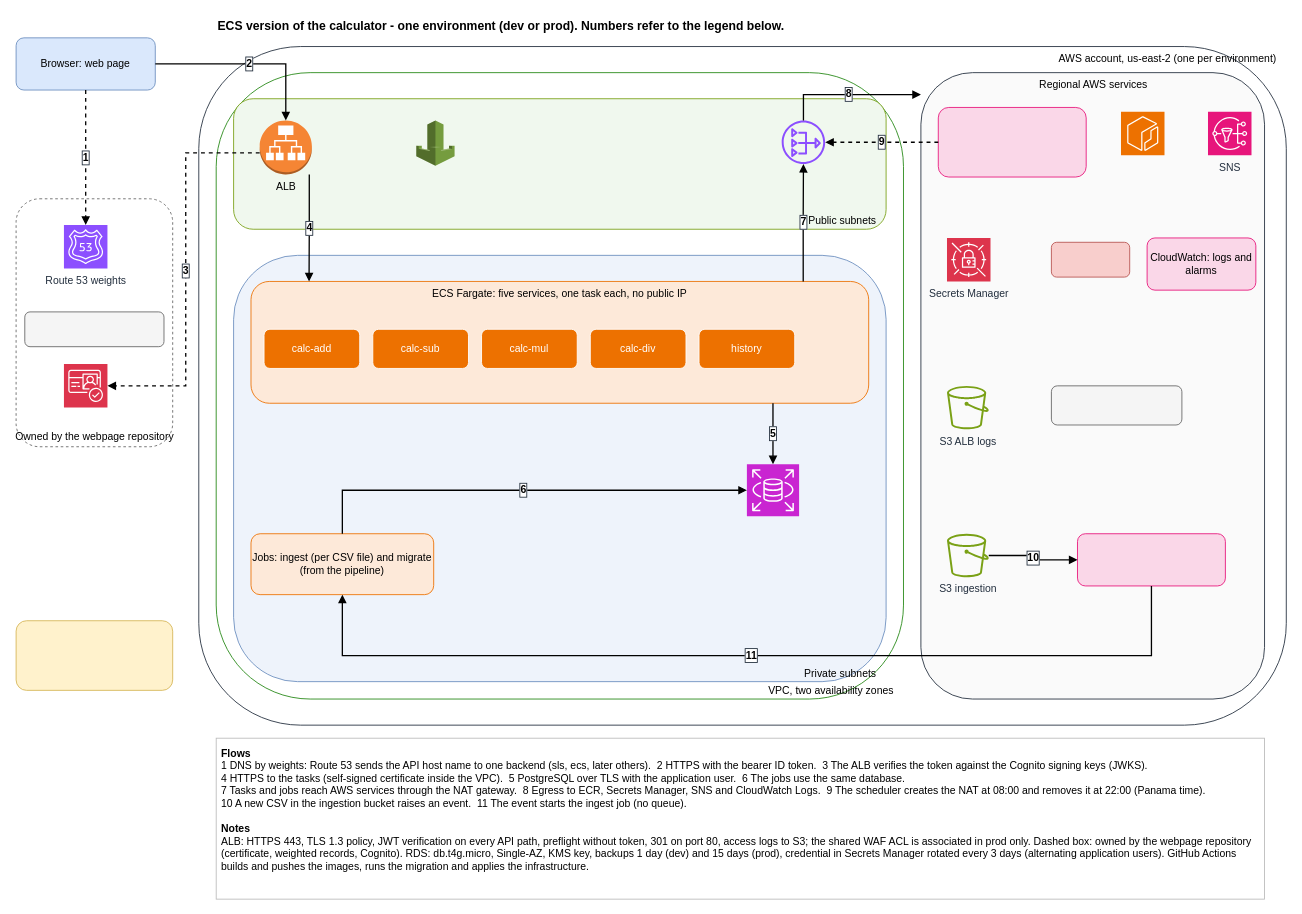
Some shapes in this 1302 by 914 pixel diagram are drawn without their labels. Here are the shapes that lost their labels. From the top down, the centre of each, then its label:
(435,143): WAF (prod only)
(803,142): NAT gateway
(1011,142): EventBridge Scheduler + Lambda: NAT on at 08:00, off at 22:00
(1142,133): ECR
(1090,259): KMS key
(94,329): API certificate (ACM)
(85,385): Cognito
(1116,405): SSM: published target
(772,489): RDS PostgreSQL
(1151,559): EventBridge rules
(94,655): GitHub Actions (OIDC): build, push to ECR, migrate, apply
